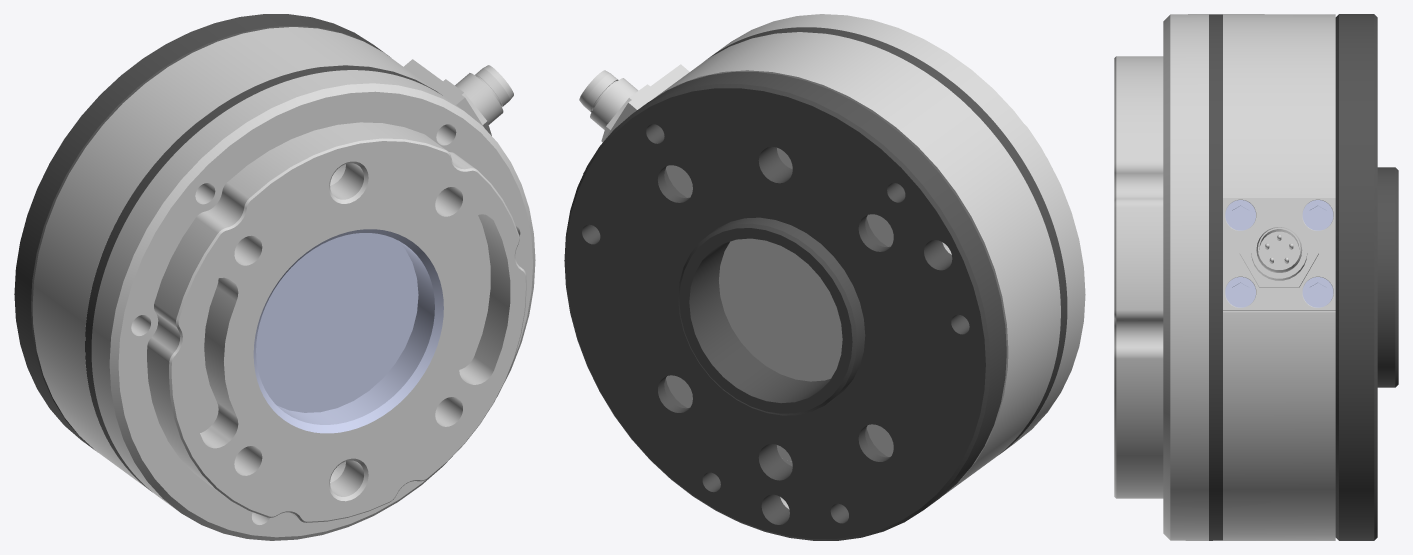
Rendered from KWR75B.glb.
3 views of the same model, side by side, from view 1: azimuth 30°, elevation 25°; view 2: azimuth 150°, elevation 25°; view 3: azimuth 270°, elevation 25° (orthographic). The views are drawn at different scales.
Parts seen in each view (by area): view 1: （适用于KWR75A 75B 75E 75F）】KWR75系列（H=31.5）六轴力传感器三维数模-1; view 2: （适用于KWR75A 75B 75E 75F）】KWR75系列（H=31.5）六轴力传感器三维数模-1; view 3: （适用于KWR75A 75B 75E 75F）】KWR75系列（H=31.5）六轴力传感器三维数模-1.
Part boxes in pixels (left/top/right/bottom): （适用于KWR75A 75B 75E 75F）】KWR75系列（H=31.5）六轴力传感器三维数模-1: left=14, top=14, right=535, bottom=540; （适用于KWR75A 75B 75E 75F）】KWR75系列（H=31.5）六轴力传感器三维数模-1: left=564, top=14, right=1085, bottom=540; （适用于KWR75A 75B 75E 75F）】KWR75系列（H=31.5）六轴力传感器三维数模-1: left=1114, top=14, right=1398, bottom=540.
Bounding box in the file's own units: 0.0794 × 0.075 × 0.0405.
